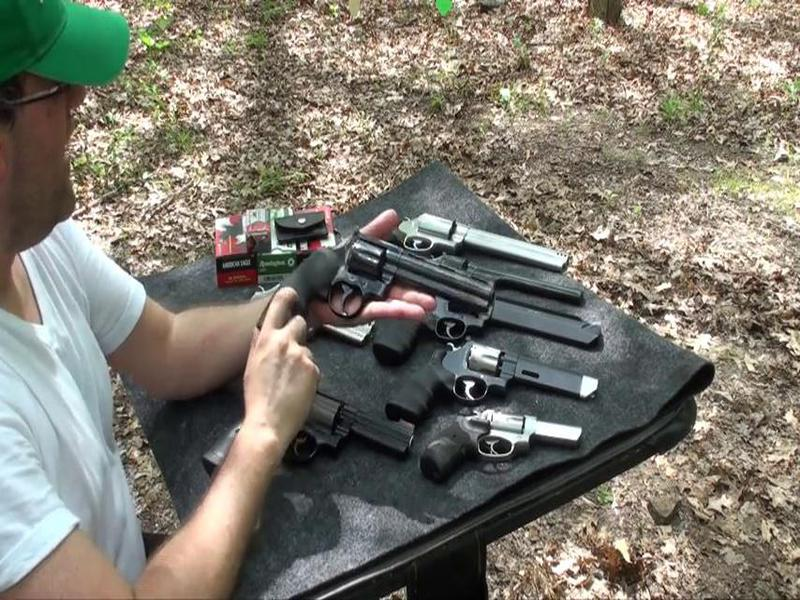Revolver: (255, 235, 502, 355)
